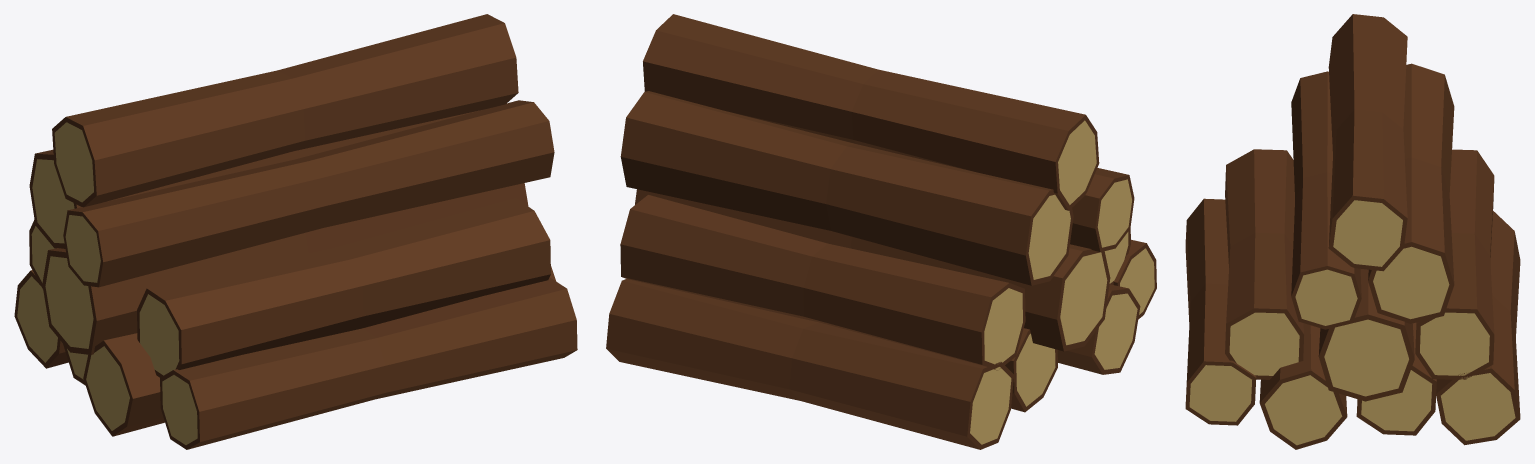
Rendered from WoodenStick.fbx.
3 renders of one model, left to right at view 1: azimuth 30°, elevation 25°; view 2: azimuth 150°, elevation 25°; view 3: azimuth 270°, elevation 25°, orthographic. The views are drawn at different scales.
Visible parts, largest first — view 1: Log.009, Log.007, Log.005, Log.003, Log.006, Log.002, Log.008, Log, Log.004; view 2: Log.008, Log.009, Log.004, Log, Log.006, Log.007, Log.002, Log.001, Log.003, Log.005; view 3: Log.009, Log.005, Log.008, Log.007, Log.004, Log.003, Log, Log.006, Log.002, Log.001.
Boxes of the visible parts, x1,y1,x2,y2 form: Log.009: (52, 14, 518, 207); Log.007: (63, 100, 554, 287); Log.005: (137, 198, 550, 377); Log.003: (160, 278, 577, 449); Log.006: (42, 183, 528, 354); Log.002: (83, 266, 555, 436); Log.008: (29, 110, 478, 248); Log: (14, 270, 68, 368); Log.004: (29, 219, 54, 288); Log.008: (620, 91, 1073, 285); Log.009: (643, 14, 1099, 210); Log.004: (620, 195, 1025, 370); Log: (606, 279, 1013, 449); Log.006: (635, 189, 1110, 351); Log.007: (1070, 168, 1134, 252); Log.002: (1057, 284, 1140, 374); Log.001: (1005, 328, 1057, 412); Log.003: (1113, 239, 1156, 319); Log.005: (1104, 228, 1130, 284); Log.009: (1328, 14, 1407, 271); Log.005: (1225, 149, 1304, 379); Log.008: (1368, 63, 1454, 323); Log.007: (1291, 71, 1361, 329); Log.004: (1415, 149, 1494, 379); Log.003: (1185, 198, 1256, 425); Log: (1436, 211, 1520, 445); Log.006: (1318, 269, 1414, 401); Log.002: (1259, 323, 1347, 449); Log.001: (1356, 322, 1436, 435).
Size of the model in its own units: 214 by 134 by 156.
